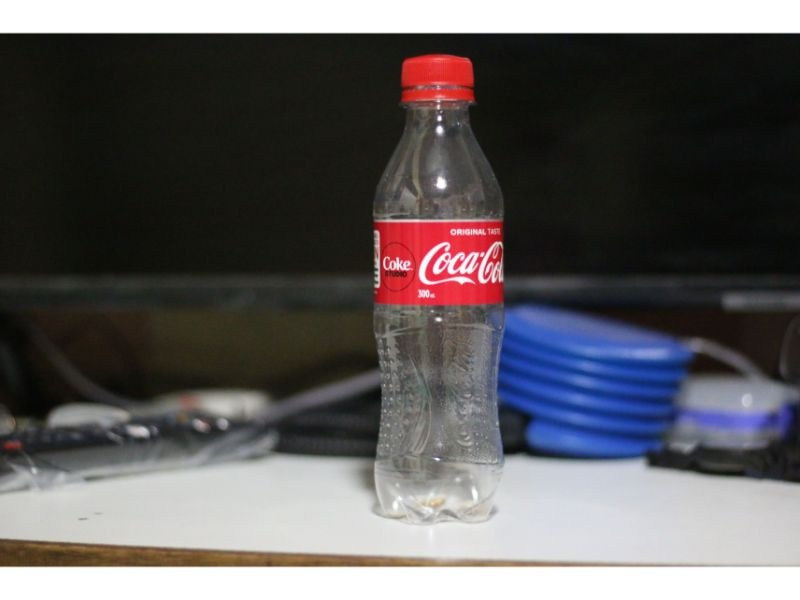PET #1: (367, 51, 507, 529)
